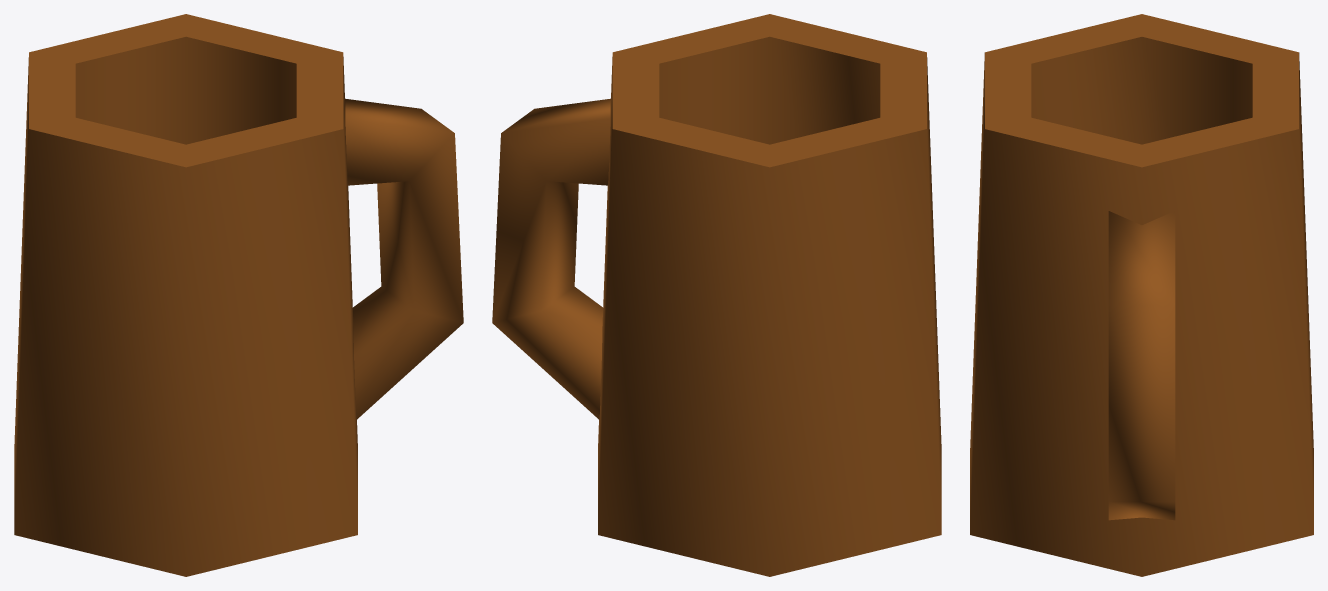
File: Mug.fbx
3 views of the same model, side by side, from view 1: azimuth 30°, elevation 25°; view 2: azimuth 150°, elevation 25°; view 3: azimuth 270°, elevation 25° (orthographic).
Parts seen in each view (by area): view 1: mug; view 2: mug; view 3: mug.
Boxes of the visible parts, left/top/right/bottom form: mug: left=14, top=14, right=463, bottom=576; mug: left=492, top=14, right=941, bottom=576; mug: left=970, top=14, right=1313, bottom=576.
Size of the model in its own units: 367 by 326 by 253.
